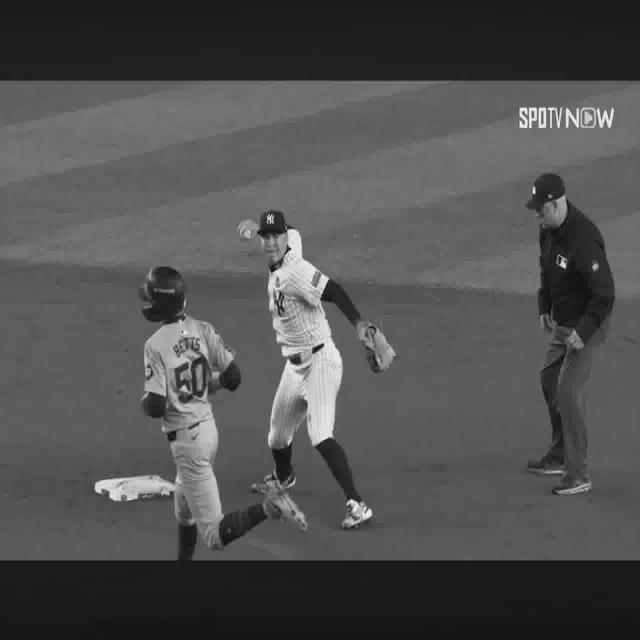base: (95, 475, 175, 502)
baseball: (244, 232, 251, 240)
baseball_glove: (359, 322, 395, 372)
shoe: (262, 480, 308, 532), (552, 469, 592, 495), (251, 470, 296, 493), (341, 500, 372, 528), (528, 453, 565, 475)
